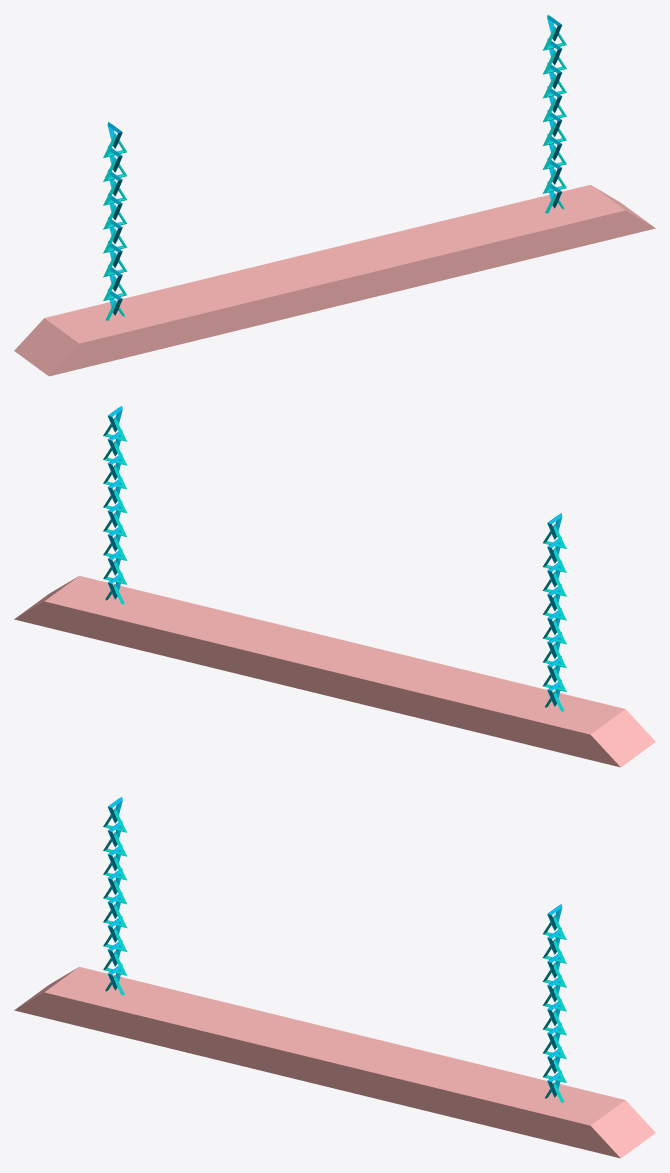
The model's file is Lamp.fbx.
The picture shows the model from 3 angles, top to bottom: view 1: azimuth 30°, elevation 25°; view 2: azimuth 150°, elevation 25°; view 3: azimuth 330°, elevation 25°; orthographic projection.
Visible parts, largest first — view 1: Lamp; view 2: Lamp; view 3: Lamp.
Part boxes in pixels (left/top/right/bottom): Lamp: left=14, top=15, right=655, bottom=376; Lamp: left=14, top=406, right=655, bottom=767; Lamp: left=14, top=797, right=655, bottom=1158.
Bounding box in the file's own units: 200 × 68.13 × 20.
